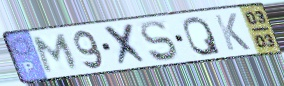9: (73, 28, 105, 70)
K: (212, 11, 253, 52)
M: (32, 32, 81, 75)
Q: (181, 14, 223, 57)
S: (138, 19, 180, 63)
X: (101, 21, 151, 69)
